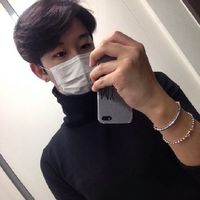face_mask: (40, 18, 97, 94)
